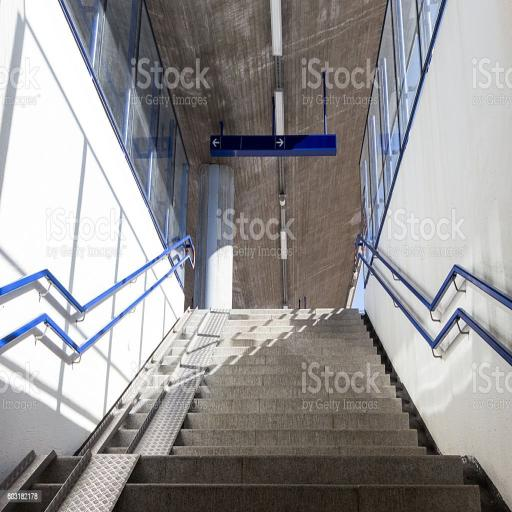ramp: (78, 307, 226, 458), (0, 452, 140, 512)
stairs: (228, 301, 480, 512)
